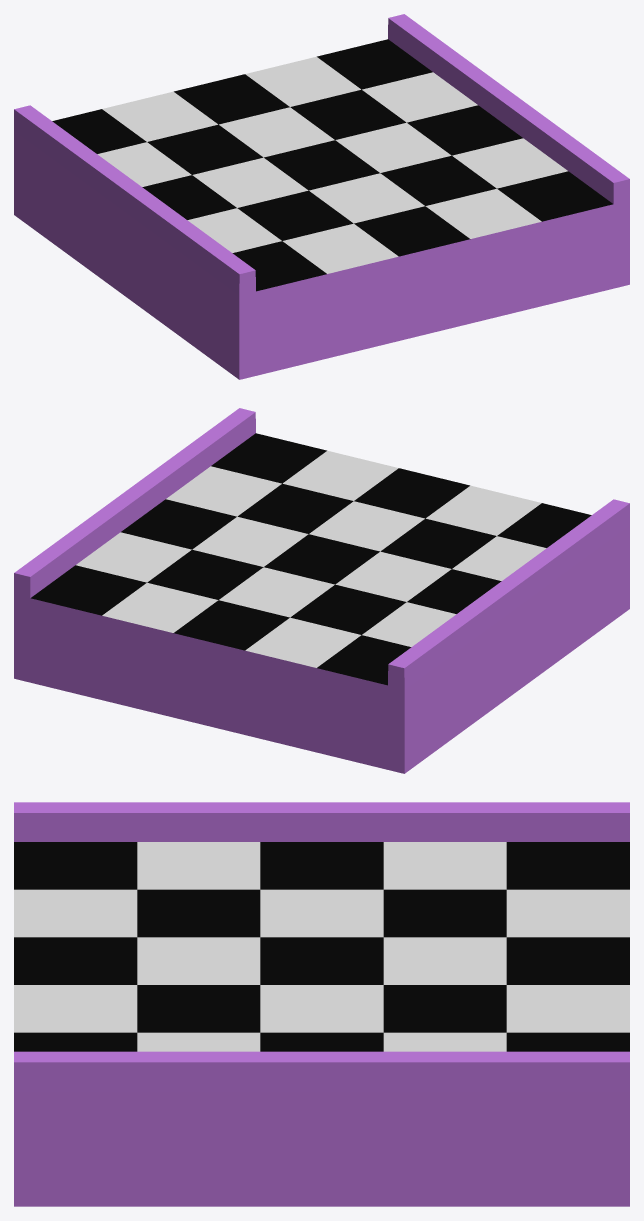
File: bitiş.platform.1.0.fbx
The picture shows the model from 3 angles, top to bottom: view 1: azimuth 30°, elevation 25°; view 2: azimuth 150°, elevation 25°; view 3: azimuth 270°, elevation 25°; orthographic projection. The views are drawn at different scales.
Visible parts, largest first — view 1: bitiş.platform; view 2: bitiş.platform; view 3: bitiş.platform.
Part boxes in pixels (bbox=[...]): bitiş.platform: bbox=[14, 14, 629, 379]; bitiş.platform: bbox=[14, 408, 629, 773]; bitiş.platform: bbox=[14, 802, 629, 1206].
Bounding box in the file's own units: 200 × 51.71 × 200.
